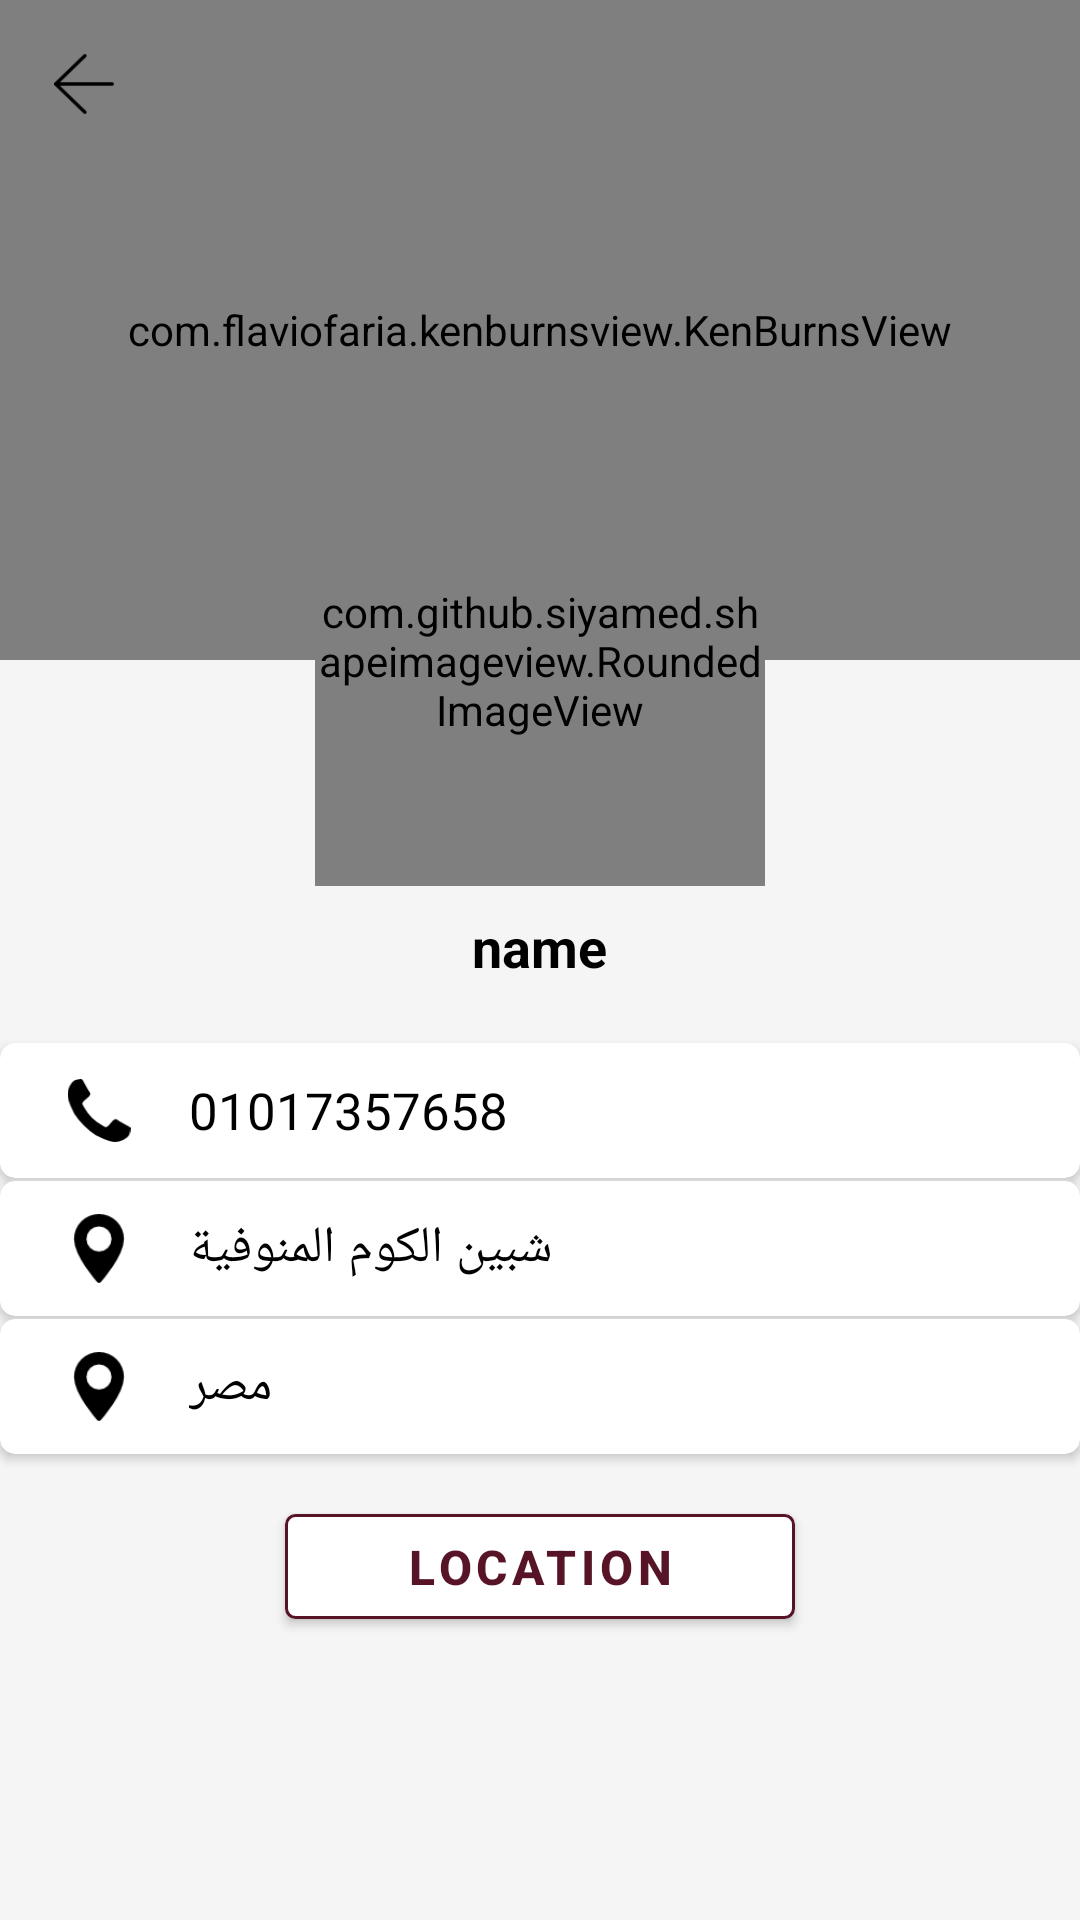

Where to tap for icons on this 1080px x 1920px app screen, as [x,y]:
back arrow: [84,84]
phone: [99,1110]
